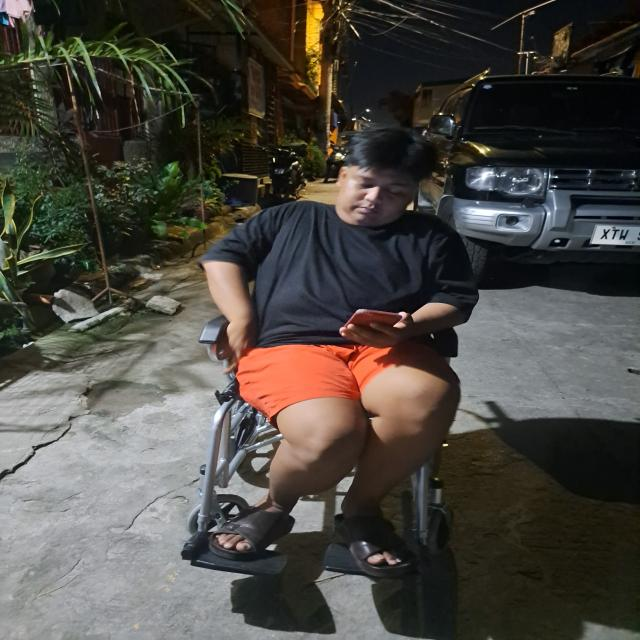wheelchairs: (170, 294, 484, 595)
